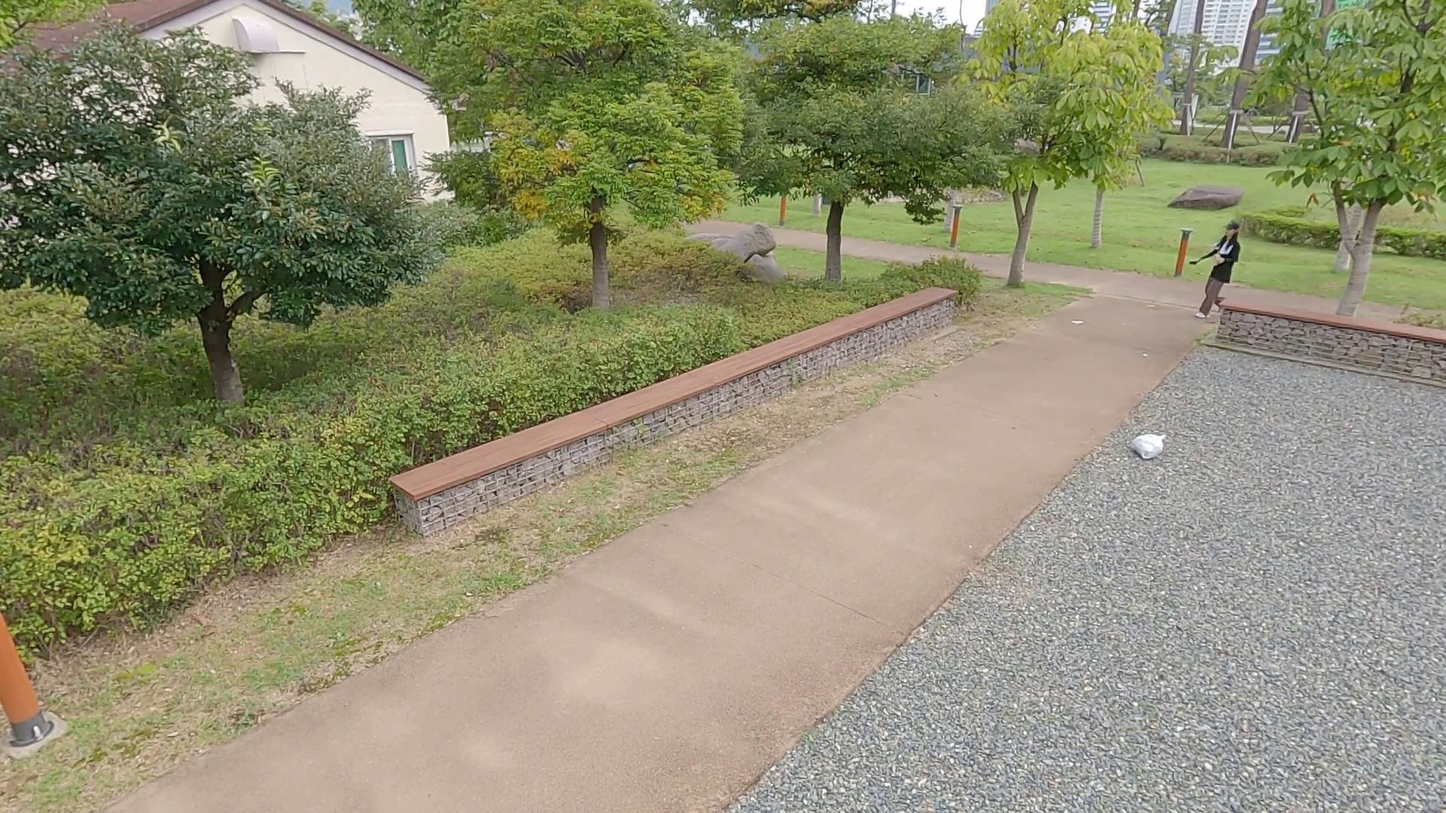person: (1189, 221, 1246, 321)
trash: (1129, 429, 1168, 462)
